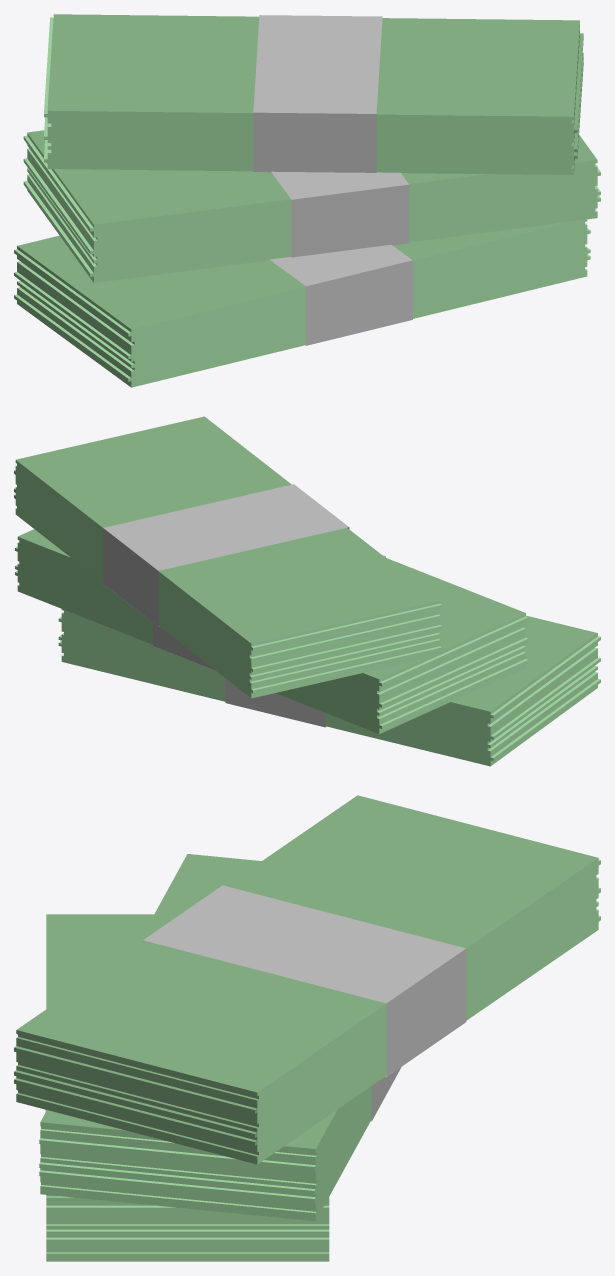
Rendered from CashGeo.fbx.
3 renders of one model, top to bottom at view 1: azimuth 30°, elevation 25°; view 2: azimuth 150°, elevation 25°; view 3: azimuth 270°, elevation 25°, orthographic. The views are drawn at different scales.
Visible parts, largest first — view 1: cashgeo; view 2: cashgeo; view 3: cashgeo.
Boxes of the visible parts, <box> form: cashgeo: <box>14,14,600,387</box>; cashgeo: <box>14,416,600,766</box>; cashgeo: <box>14,795,600,1261</box>.
Size of the model in its own units: 68.19 by 21.28 by 51.87.
